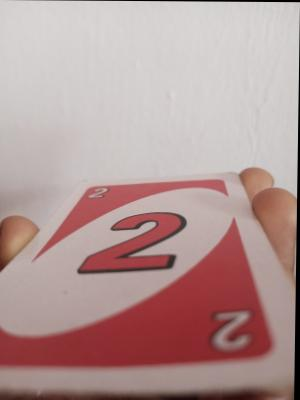num_2: (208, 304, 261, 355), (84, 184, 114, 204)
